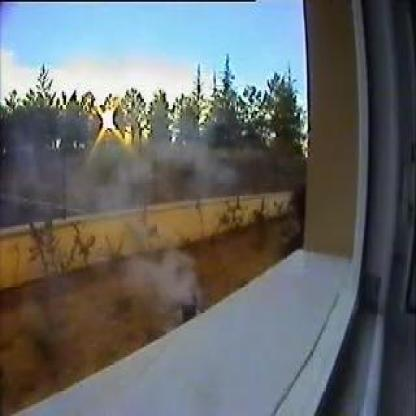-: (138, 254, 194, 301)
